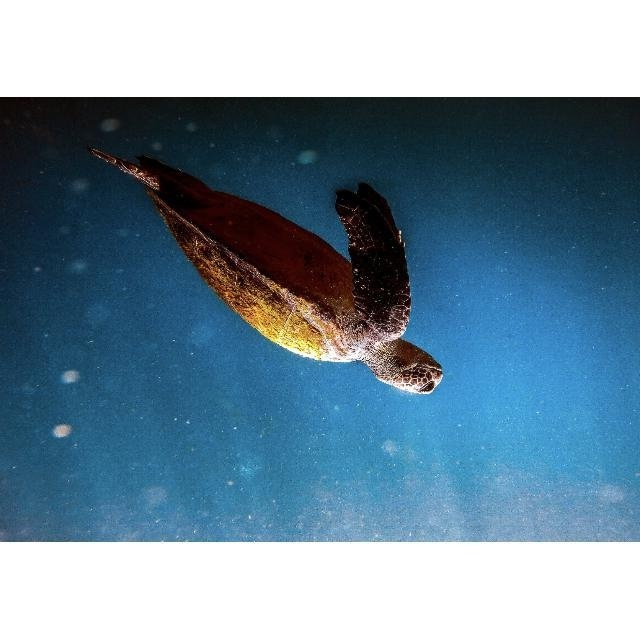turtle: (89, 144, 446, 396)
